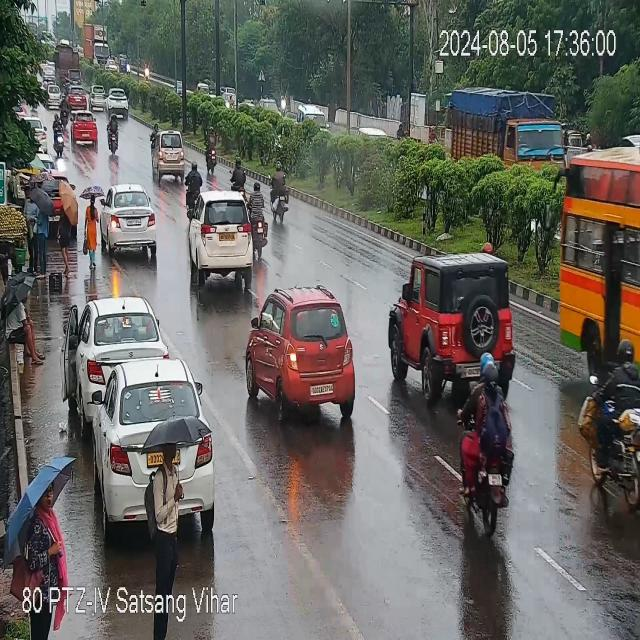2-wheelers: (457, 346, 515, 537), (582, 359, 640, 507), (248, 178, 268, 258), (270, 166, 290, 227), (186, 157, 201, 220), (228, 158, 248, 200), (105, 114, 122, 156), (204, 122, 217, 173), (50, 113, 64, 159), (58, 94, 70, 128)
bus: (553, 128, 638, 398)
car: (87, 359, 215, 543), (384, 240, 519, 400), (240, 286, 358, 424), (62, 295, 168, 435), (193, 193, 262, 288), (95, 184, 162, 256), (150, 132, 189, 179), (72, 114, 96, 149), (105, 89, 131, 116), (65, 84, 88, 111), (90, 84, 106, 113)
pedestrian: (141, 408, 212, 588), (4, 446, 76, 586), (2, 272, 46, 369), (55, 176, 78, 278), (30, 184, 51, 273), (83, 183, 102, 274)
truck: (445, 88, 564, 172), (53, 43, 84, 92), (81, 19, 110, 67)
